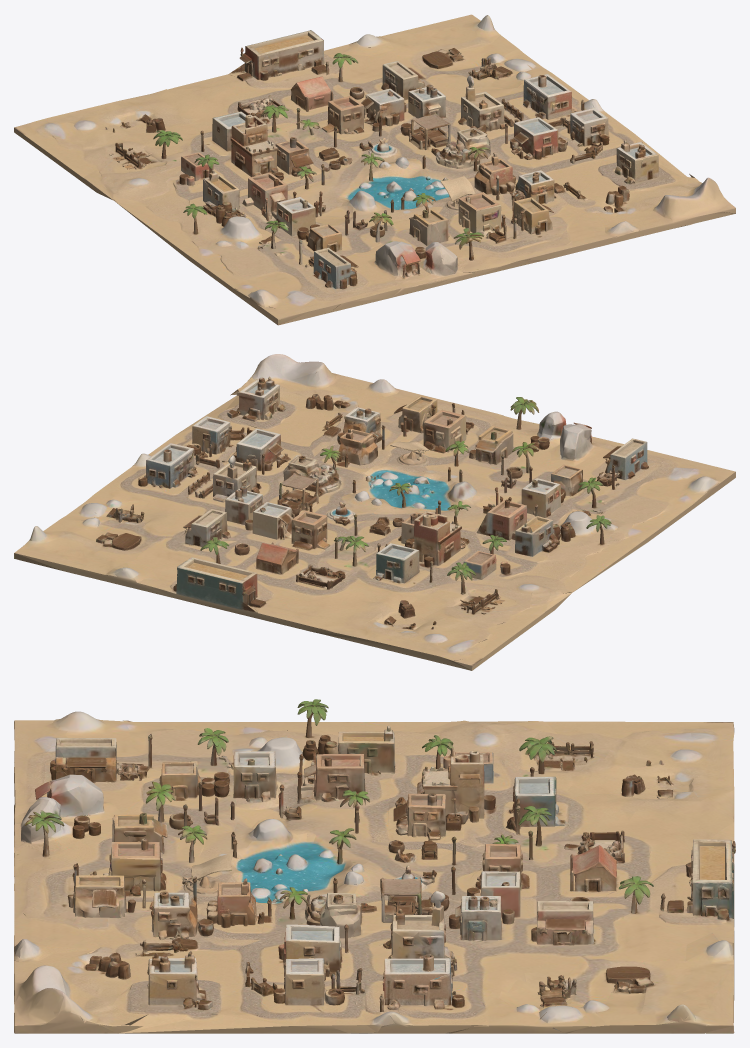
Rendered from oasis_village.glb.
The picture shows the model from 3 angles, top to bottom: view 1: azimuth 30°, elevation 25°; view 2: azimuth 150°, elevation 25°; view 3: azimuth 270°, elevation 25°; orthographic projection. The views are drawn at different scales.
Visible parts, largest first — view 1: output_unwrapped; view 2: output_unwrapped; view 3: output_unwrapped.
Boxes of the visible parts, <box> form: output_unwrapped: <box>14,14,735,325</box>; output_unwrapped: <box>14,354,735,670</box>; output_unwrapped: <box>14,699,735,1033</box>.
Bounding box in the file's own units: 1.9 × 0.2133 × 1.9.
Materials: 1 (1 with a texture image).
